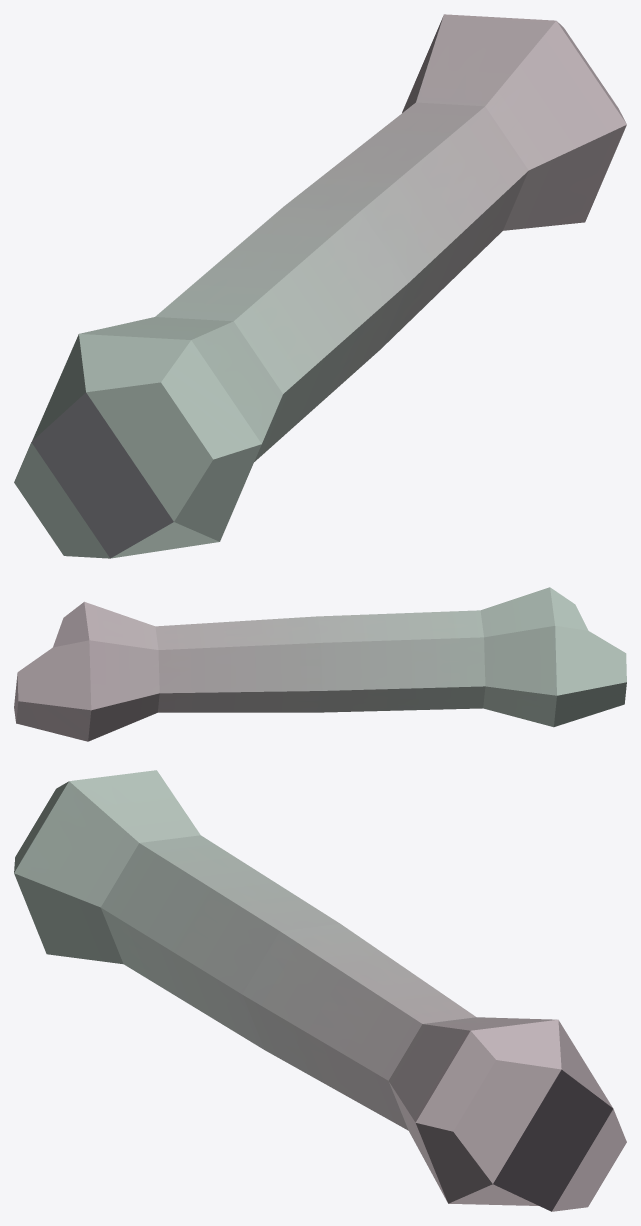
File: Prop_Bone_Femur.fbx
3 views of the same model, one above another, from view 1: azimuth 30°, elevation 25°; view 2: azimuth 150°, elevation 25°; view 3: azimuth 270°, elevation 25° (orthographic). The views are drawn at different scales.
Parts seen in each view (by area): view 1: LonelyFemur; view 2: LonelyFemur; view 3: LonelyFemur.
Part boxes in pixels (left/top/right/bottom): LonelyFemur: left=14, top=14, right=626, bottom=558; LonelyFemur: left=14, top=587, right=626, bottom=741; LonelyFemur: left=14, top=770, right=626, bottom=1211.
Size of the model in its own units: 35.02 by 8.49 by 26.09.
